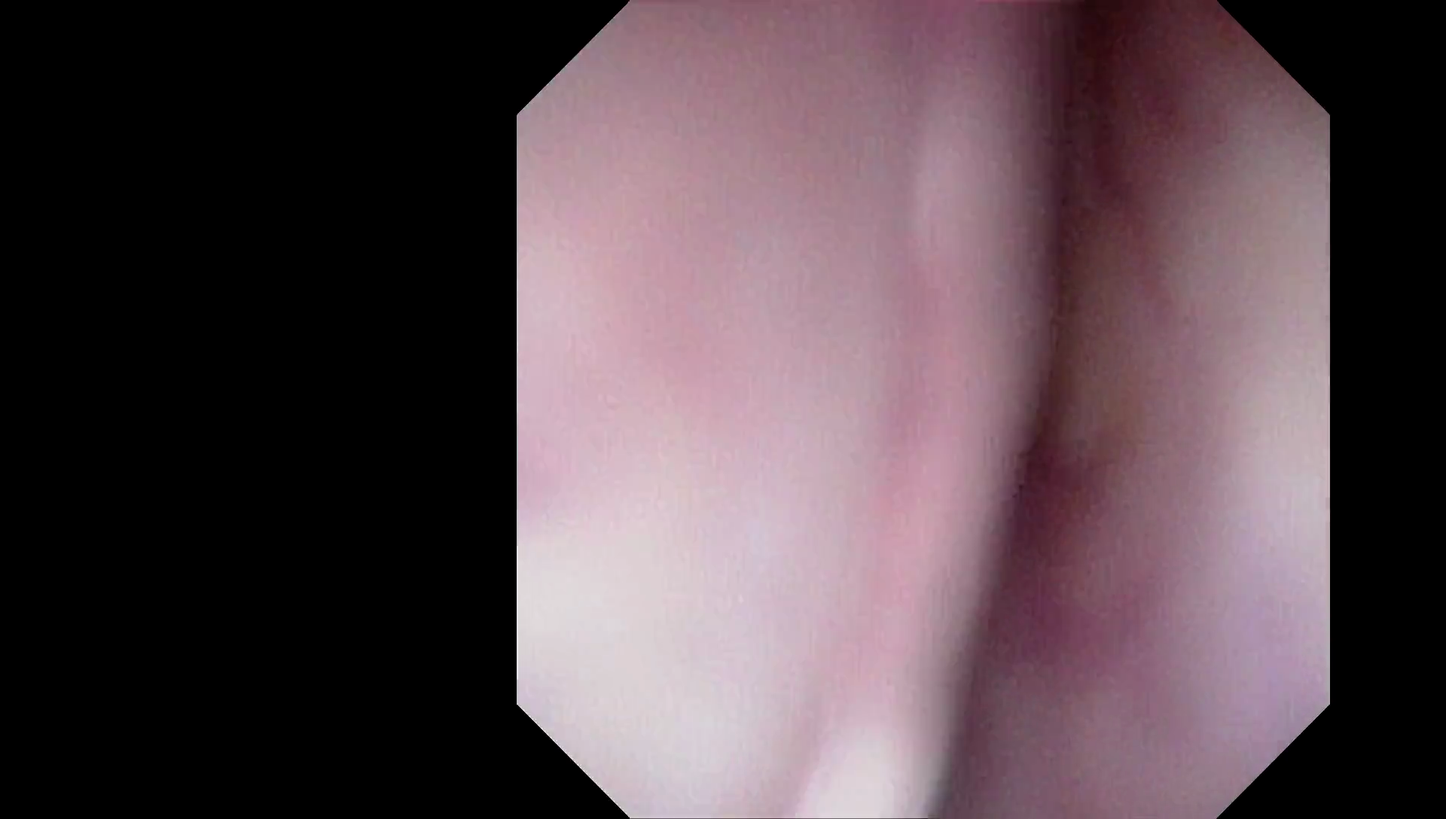close_wall: (526, 141, 976, 693), (1144, 156, 1329, 690)
